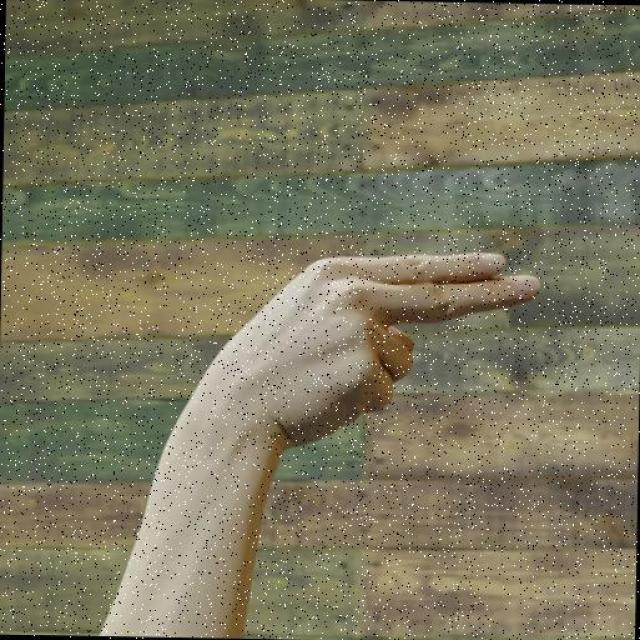H: (197, 236, 544, 458)
